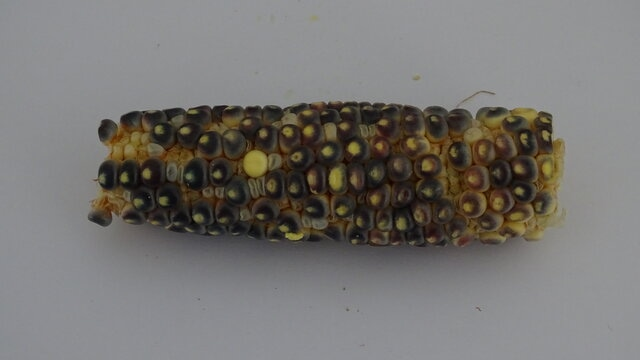ear: (86, 99, 571, 251)
